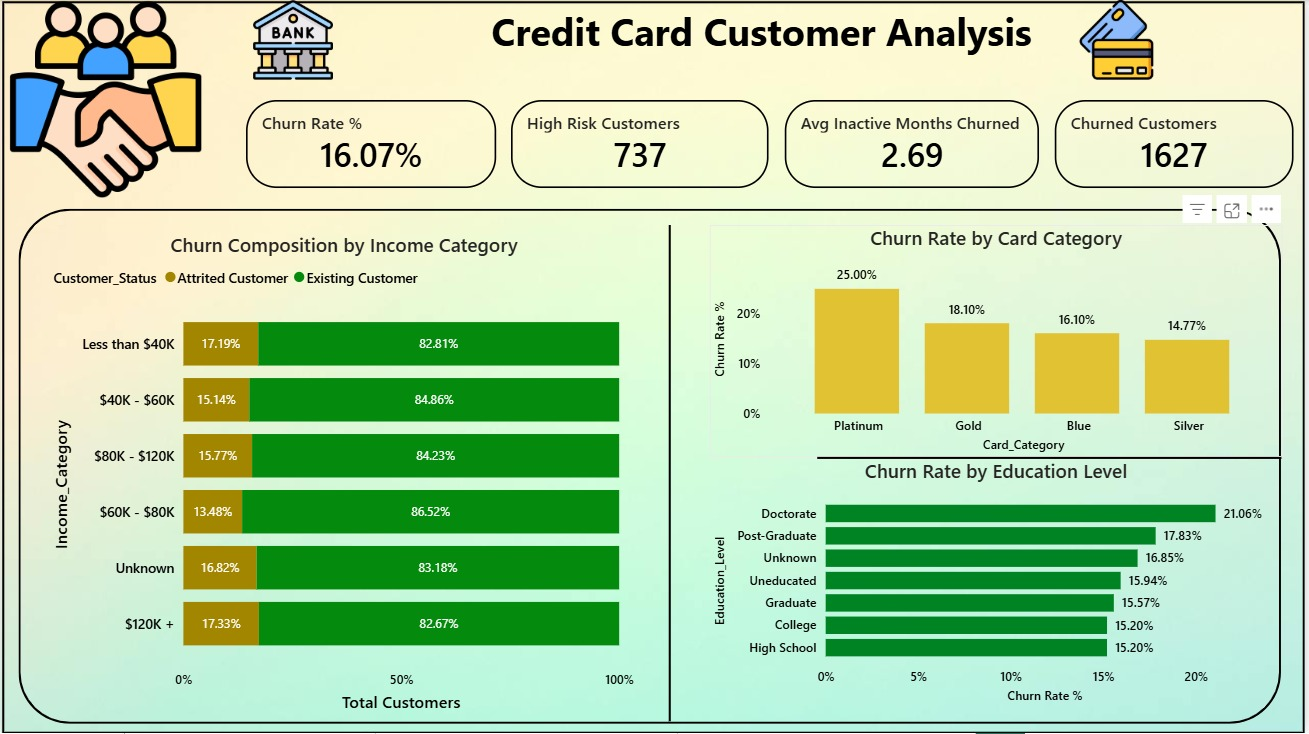

Layout of this report page (visuals, bound fields, positions):
{"tool":"powerbi","page":{"name":"Churn Analysis & Risk Segmentation","canvas":[1280,720],"ordinal":2},"visuals":[{"type":"textbox","box":[213.1,0,1066.3,78],"z":1000,"group":"g1"},{"type":"shape","box":[17.2,204.9,1239.3,505.5],"z":1000},{"type":"shape","box":[1.2,1.2,1278.5,719],"z":1500},{"type":"card","title":"Churn Rate %","fields":{"Values":["meaures.Churn Rate %"]},"box":[240.5,98.1,245.7,86.5],"z":2000},{"type":"card","title":"High Risk Customers","fields":{"Values":["meaures.High Risk Customers"]},"box":[501,98.1,253.1,86.5],"z":3000},{"type":"card","title":"Avg Inactive Months Churned","fields":{"Values":["meaures.Avg Inactive Months (Churned)"]},"box":[769.9,98.1,250,86.5],"z":4000},{"type":"hundredPercentStackedBarChart","title":"Churn Composition by Income Category","fields":{"Category":["Dim_Customer.Income_Category"],"Y":["meaures.Total Customers"],"Series":["Dim_Churn.Customer_Status"]},"box":[46.6,227,580.4,477.3],"z":5000},{"type":"clusteredColumnChart","title":"Churn Rate by Card Category","fields":{"Category":["Dim_Card.Card_Category"],"Y":["meaures.Churn Rate %"]},"box":[695.7,220.9,562,228.2],"z":6000},{"type":"barChart","title":"Churn Rate by Education Level","fields":{"Category":["Dim_Customer.Education_Level"],"Y":["meaures.Churn Rate %"]},"box":[695.7,449.1,562,246.6],"z":7000},{"type":"card","title":"Churned Customers","fields":{"Values":["meaures.Churned Customers"]},"box":[1034.7,98.1,234.1,86.5],"z":8000},{"type":"group","id":"g1","title":"Group 1","box":[213.1,0,1066.3,78],"z":9000},{"type":"image","box":[1055.8,0,79.1,78],"z":10000},{"type":"image","box":[231,0,111.8,78],"z":11000},{"type":"image","box":[1.1,0,202.5,195.1],"z":12000},{"type":"shape","box":[801.6,433.5,455.6,32.7],"z":13000},{"type":"shape","box":[640.5,220.9,31.9,487.1],"z":14000}]}

Visuals, with their boxes in screenshot pixels (x1, y1, x2, y2), scaled from the page's 1280x720 canvas onto the 1309x734 screenshot:
textbox: {"left": 218, "top": 0, "right": 1308, "bottom": 80}
shape: {"left": 18, "top": 209, "right": 1285, "bottom": 724}
shape: {"left": 1, "top": 1, "right": 1308, "bottom": 733}
"Churn Rate %" card: {"left": 246, "top": 100, "right": 497, "bottom": 188}
"High Risk Customers" card: {"left": 512, "top": 100, "right": 771, "bottom": 188}
"Avg Inactive Months Churned" card: {"left": 787, "top": 100, "right": 1043, "bottom": 188}
"Churn Composition by Income Category" hundredPercentStackedBarChart: {"left": 48, "top": 231, "right": 641, "bottom": 718}
"Churn Rate by Card Category" clusteredColumnChart: {"left": 711, "top": 225, "right": 1286, "bottom": 458}
"Churn Rate by Education Level" barChart: {"left": 711, "top": 458, "right": 1286, "bottom": 709}
"Churned Customers" card: {"left": 1058, "top": 100, "right": 1298, "bottom": 188}
"Group 1" group: {"left": 218, "top": 0, "right": 1308, "bottom": 80}
image: {"left": 1080, "top": 0, "right": 1161, "bottom": 80}
image: {"left": 236, "top": 0, "right": 351, "bottom": 80}
image: {"left": 1, "top": 0, "right": 208, "bottom": 199}
shape: {"left": 820, "top": 442, "right": 1286, "bottom": 475}
shape: {"left": 655, "top": 225, "right": 688, "bottom": 722}
